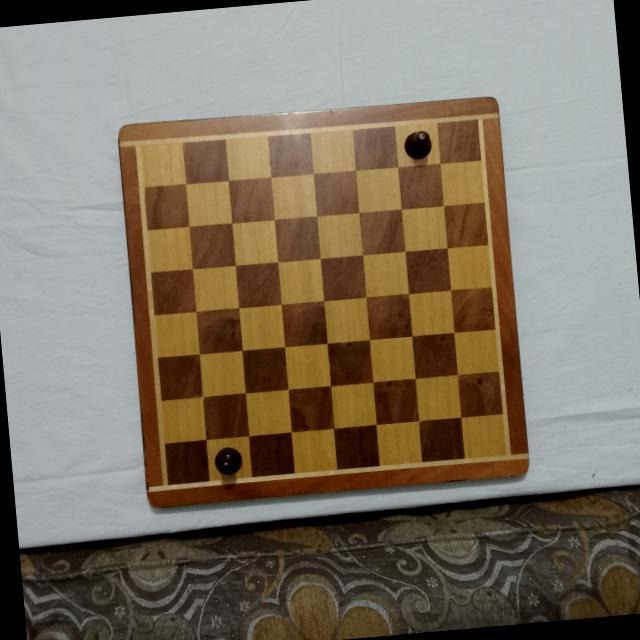black-pawn: (401, 128, 434, 161), (214, 444, 246, 476)
